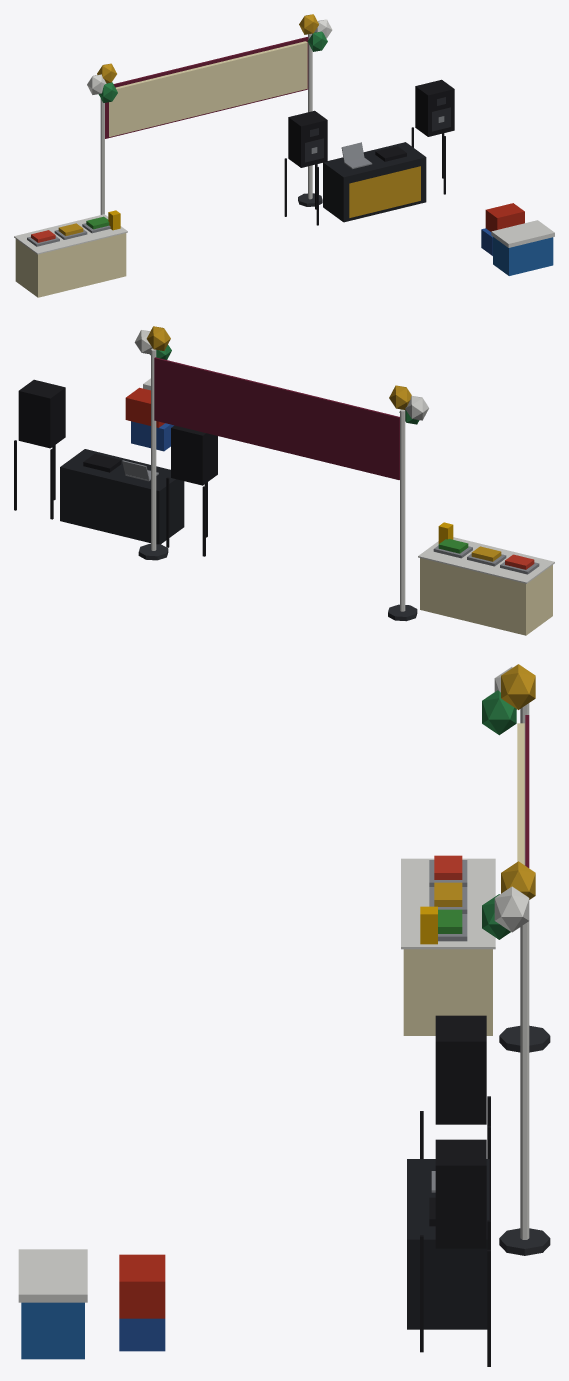
File: prop_party-set.6e9c7270af19.glb
3 renders of one model, top to bottom at view 1: azimuth 30°, elevation 25°; view 2: azimuth 150°, elevation 25°; view 3: azimuth 270°, elevation 25°, orthographic. The views are drawn at different scales.
Parts seen in each view (by area): view 1: body; view 2: body; view 3: body.
Boxes of the visible parts, x1,y1,x2,y2 form: body: [14, 14, 554, 297]; body: [14, 326, 554, 635]; body: [18, 664, 550, 1366].
Size of the model in its own units: 7.76 by 3.26 by 4.17.
